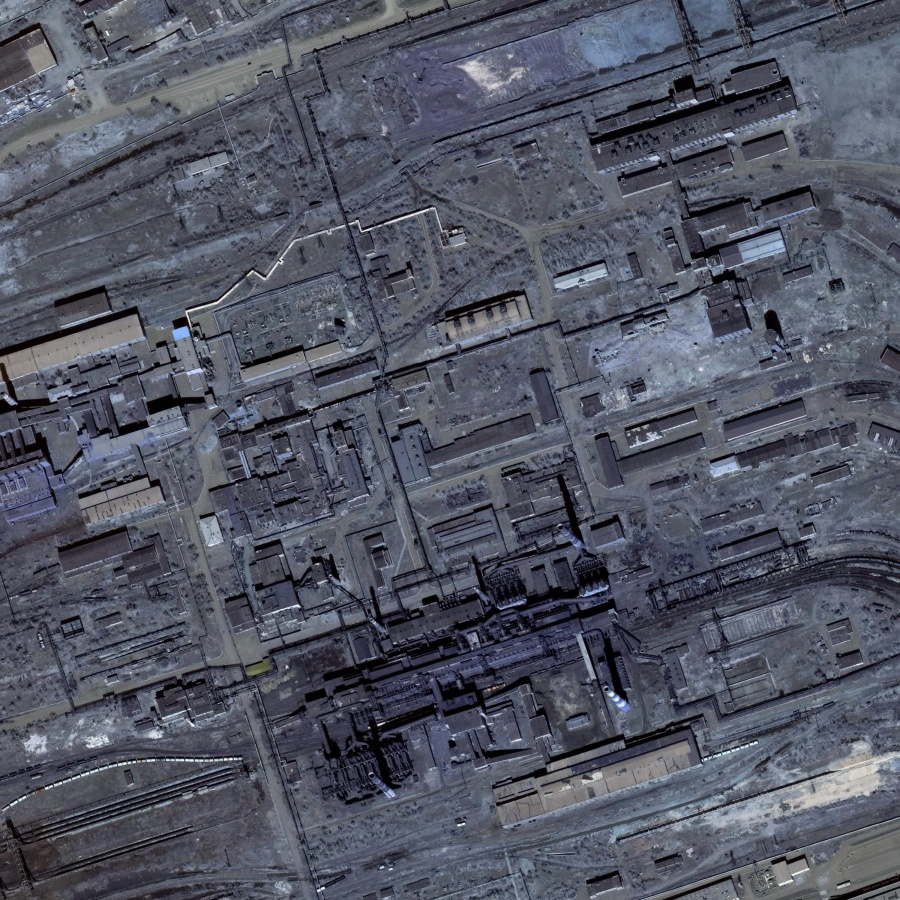PowerPlant: (298, 511, 650, 805)
